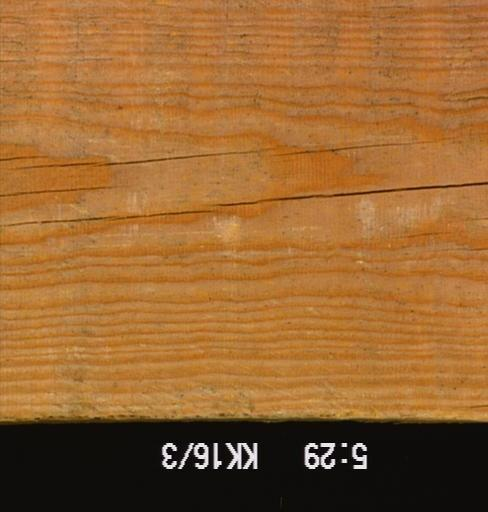split: (0, 207, 214, 228), (269, 137, 454, 158), (93, 150, 255, 168), (0, 183, 121, 199), (14, 160, 96, 173), (0, 154, 51, 164), (445, 94, 486, 106), (466, 403, 486, 412)
